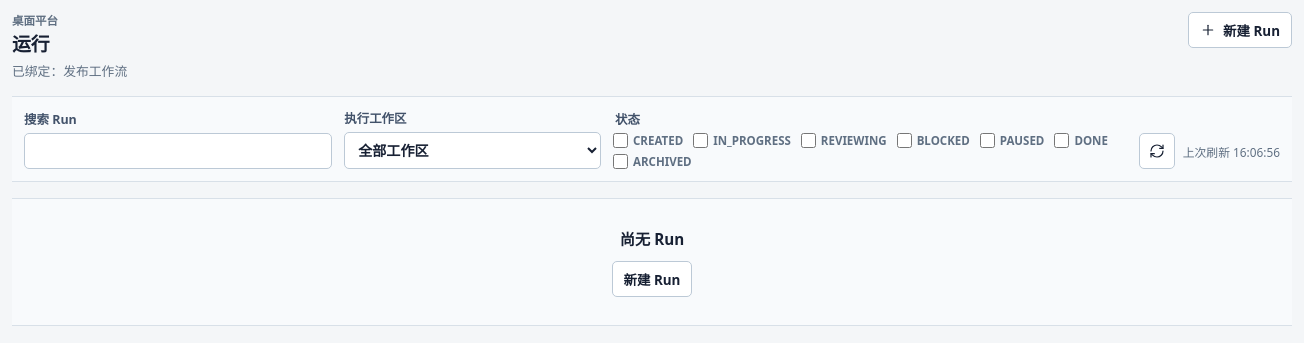
Test: RunListPage › shows distinct initial and filtered empty states
The width and height of the screenshot is (1304, 343).
Expected: the text "尚无 Run" is shown, [620,228,684,250]
Step 1. Type "missing" into the search field labelled "搜索 Run" → (178, 152), box [24,134,332,170]
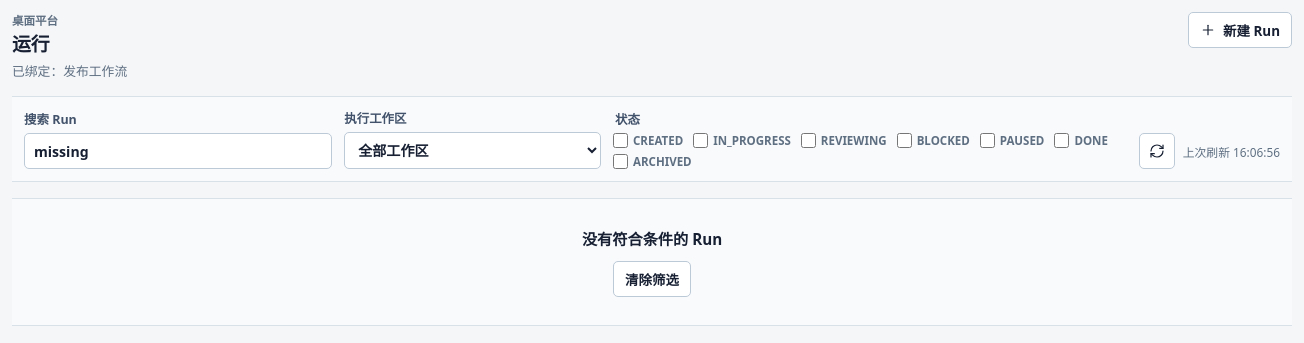
Result: the text "没有符合条件的 Run" is shown at [582,228,722,250]
Step 2. Click the button "清除筛选" → (652, 280), box [613,262,691,298]
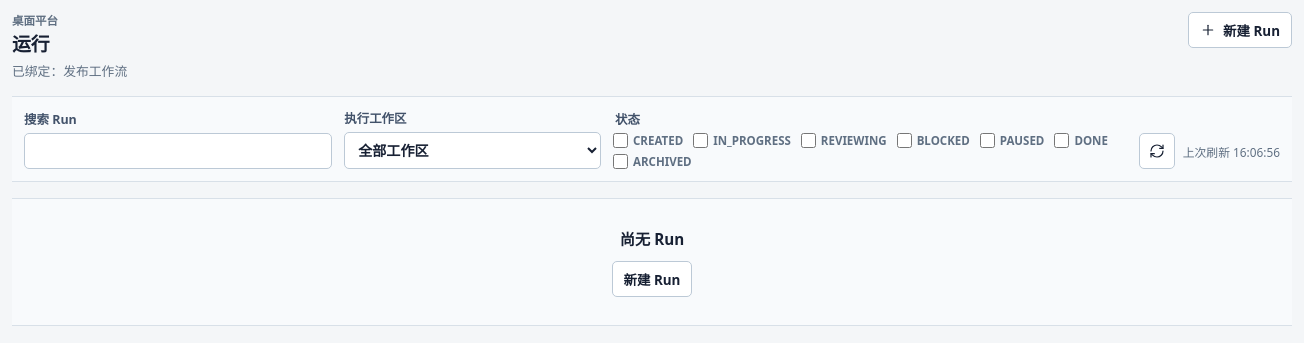
Result: the search field labelled "搜索 Run" is empty at [24,134,332,170]
